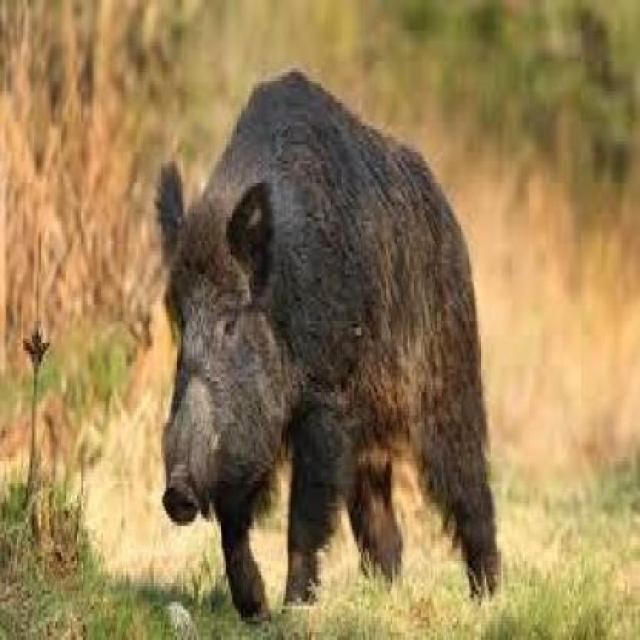wildboar: (152, 65, 500, 633)
